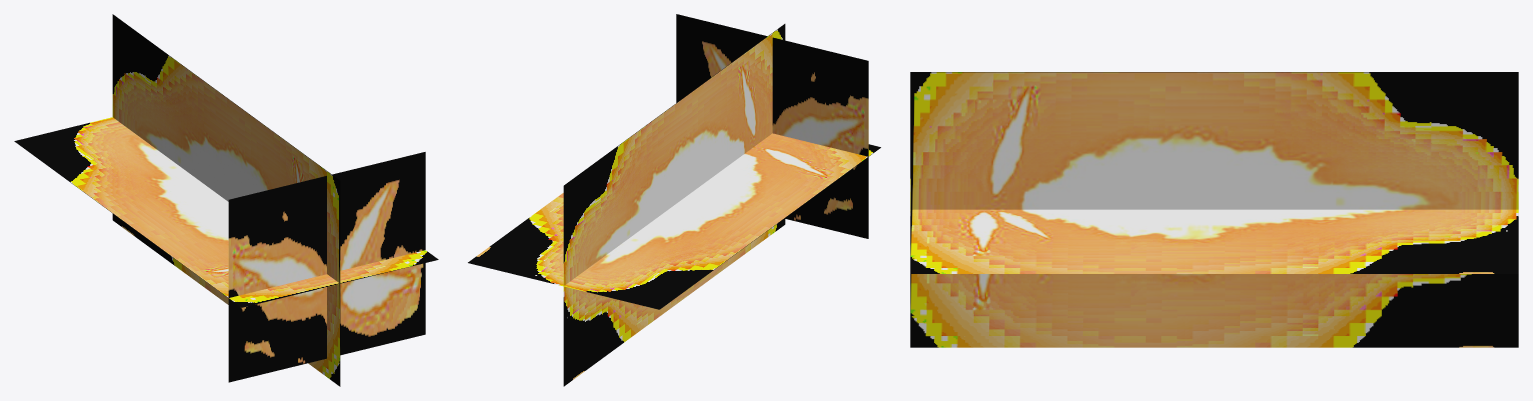
Rendered from muzzleflashmesh.fbx.
The picture shows the model from 3 angles, left to right: view 1: azimuth 30°, elevation 25°; view 2: azimuth 150°, elevation 25°; view 3: azimuth 270°, elevation 25°; orthographic projection. The views are drawn at different scales.
Parts seen in each view (by area): view 1: Plane_orient; view 2: Plane_orient; view 3: Plane_orient.
Part boxes in pixels (box(x1,y1,x2,y2)): Plane_orient: box(14, 14, 438, 386); Plane_orient: box(468, 14, 880, 386); Plane_orient: box(910, 72, 1518, 347).
Bounding box in the file's own units: 1 × 1 × 2.
Materials: 1 (1 with a texture image).
